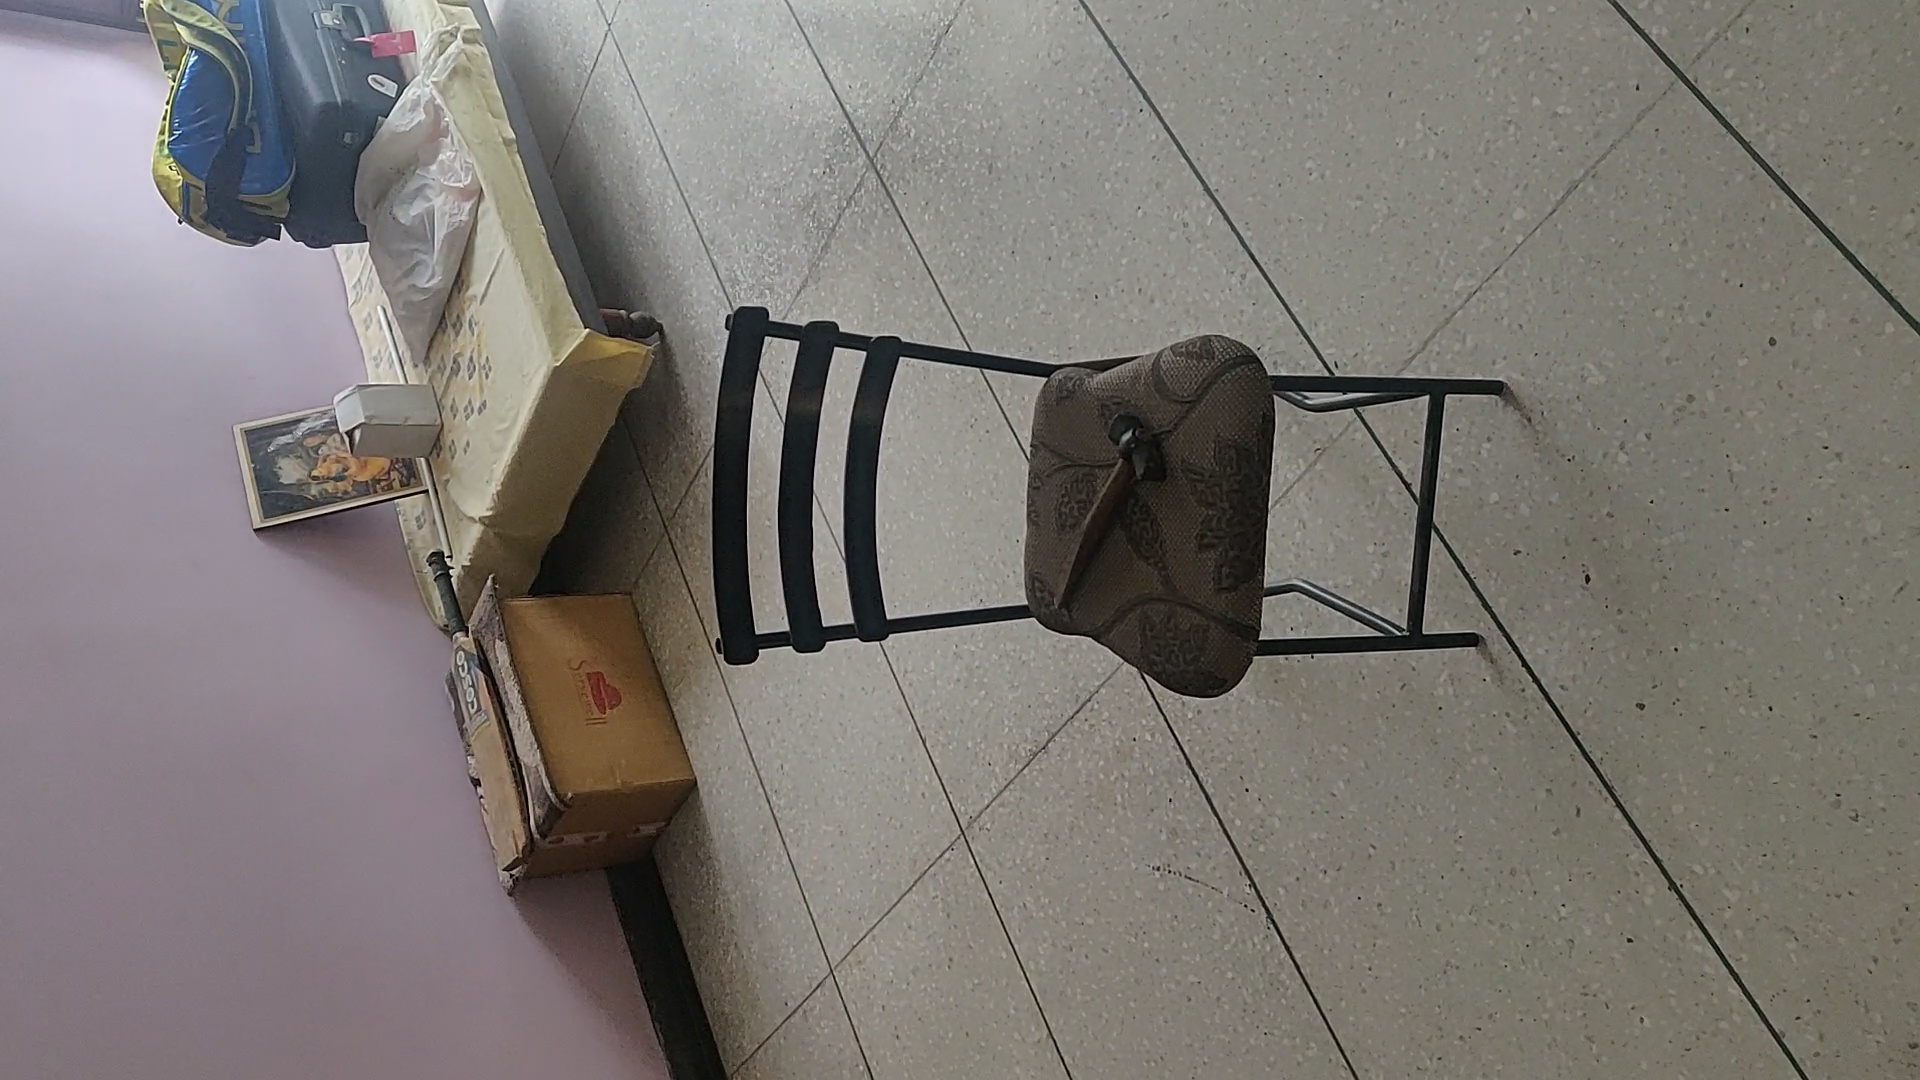hammer: (1054, 411, 1164, 603)
